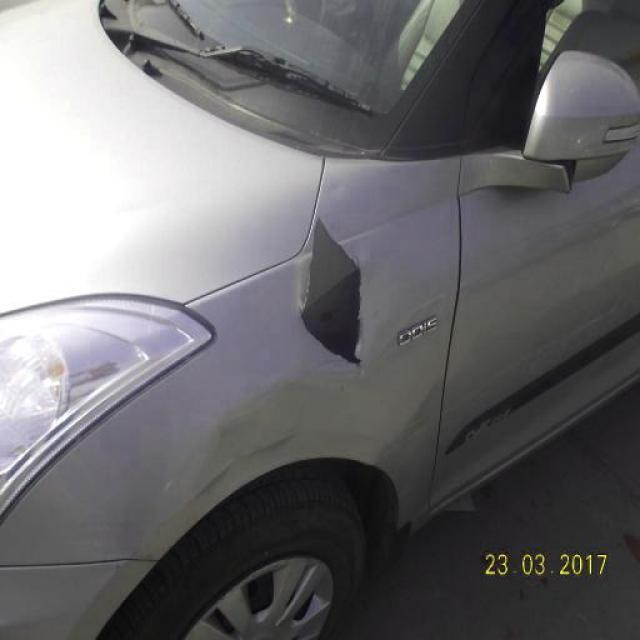Car-Damage: (301, 215, 365, 371)
